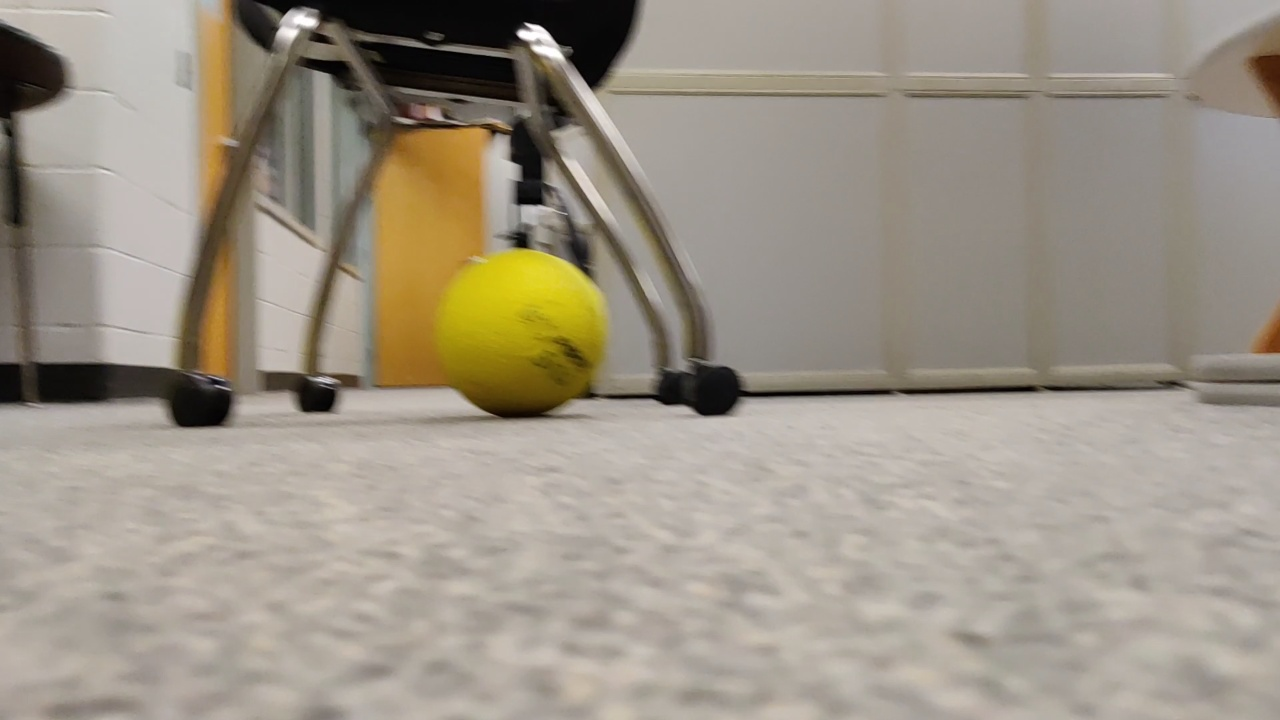Ball: (444, 254, 596, 416)
